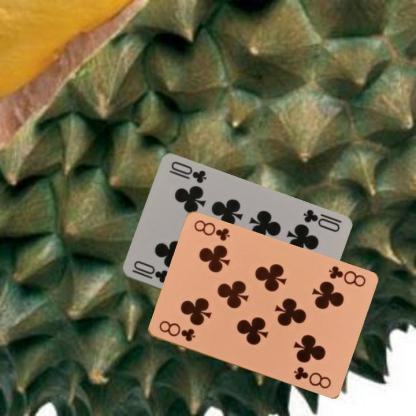10c: (300, 206, 341, 234), (128, 258, 170, 285)
8c: (325, 262, 367, 288), (156, 318, 196, 344)
